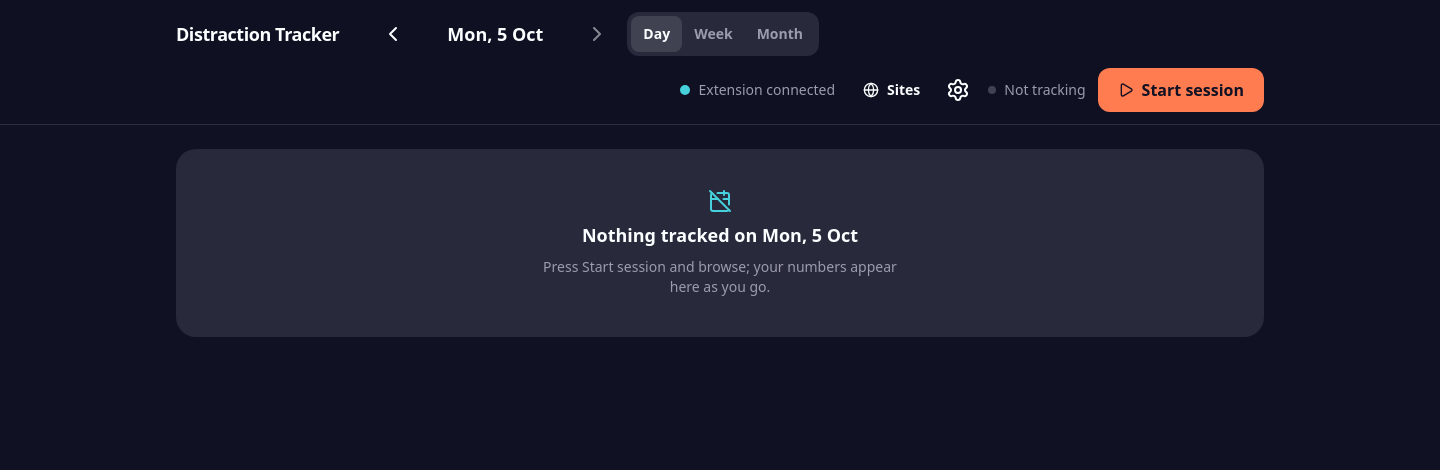
Test: period navigation › asks for a month when the month tab is chosen
Click the radio button labelled "Month": {"x": 780, "y": 34} [745,16,815,52]
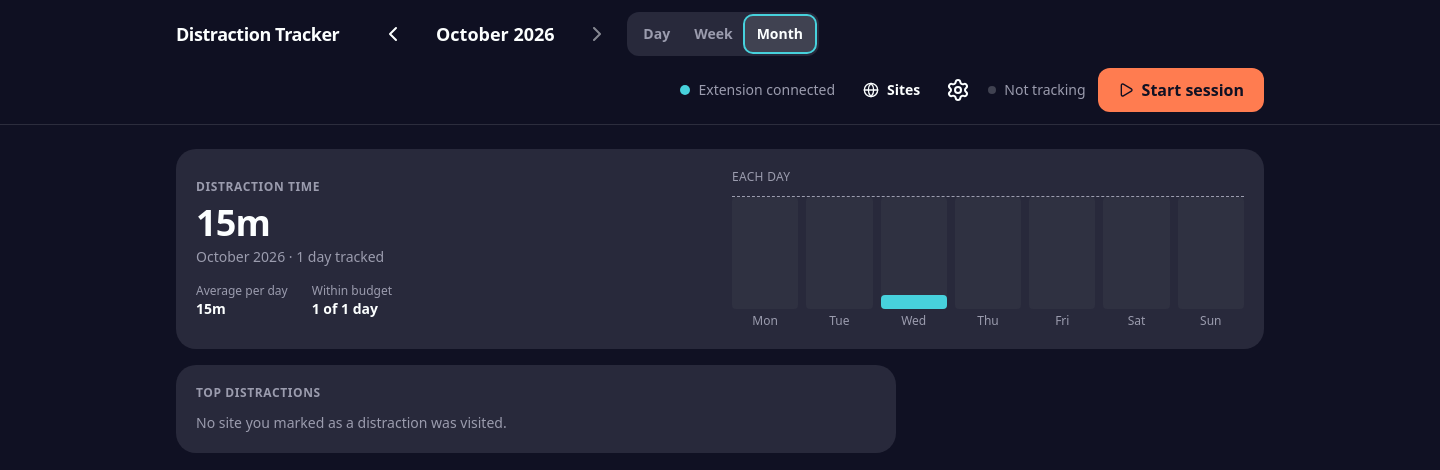
Expected: the text "October 2026 · 1 day tracked" is shown, [196,247,384,266]
